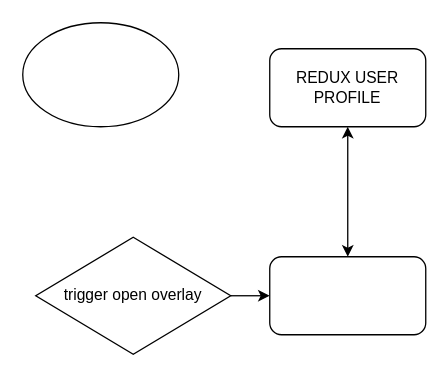
This 448x377 diagram has some shape labels left out. The shapes that lost their labels are listed below. From the top down, each one's box as (x1, y1, x2, y2) in pixels, then its label:
(21, 21, 179, 127): Redux variant
(268, 255, 426, 335): first fetch with skeleton or place last fetched data + trigger fetch
